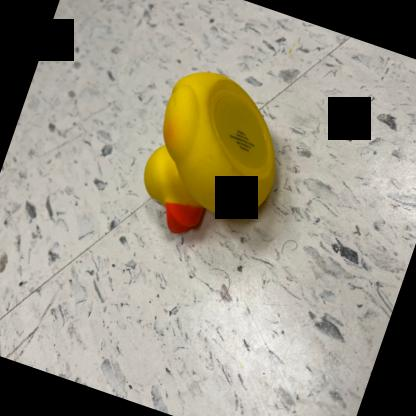duck: (126, 59, 304, 261)
